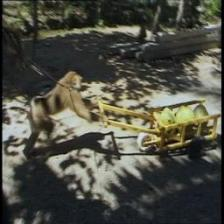monkey: (66, 70, 90, 94)
